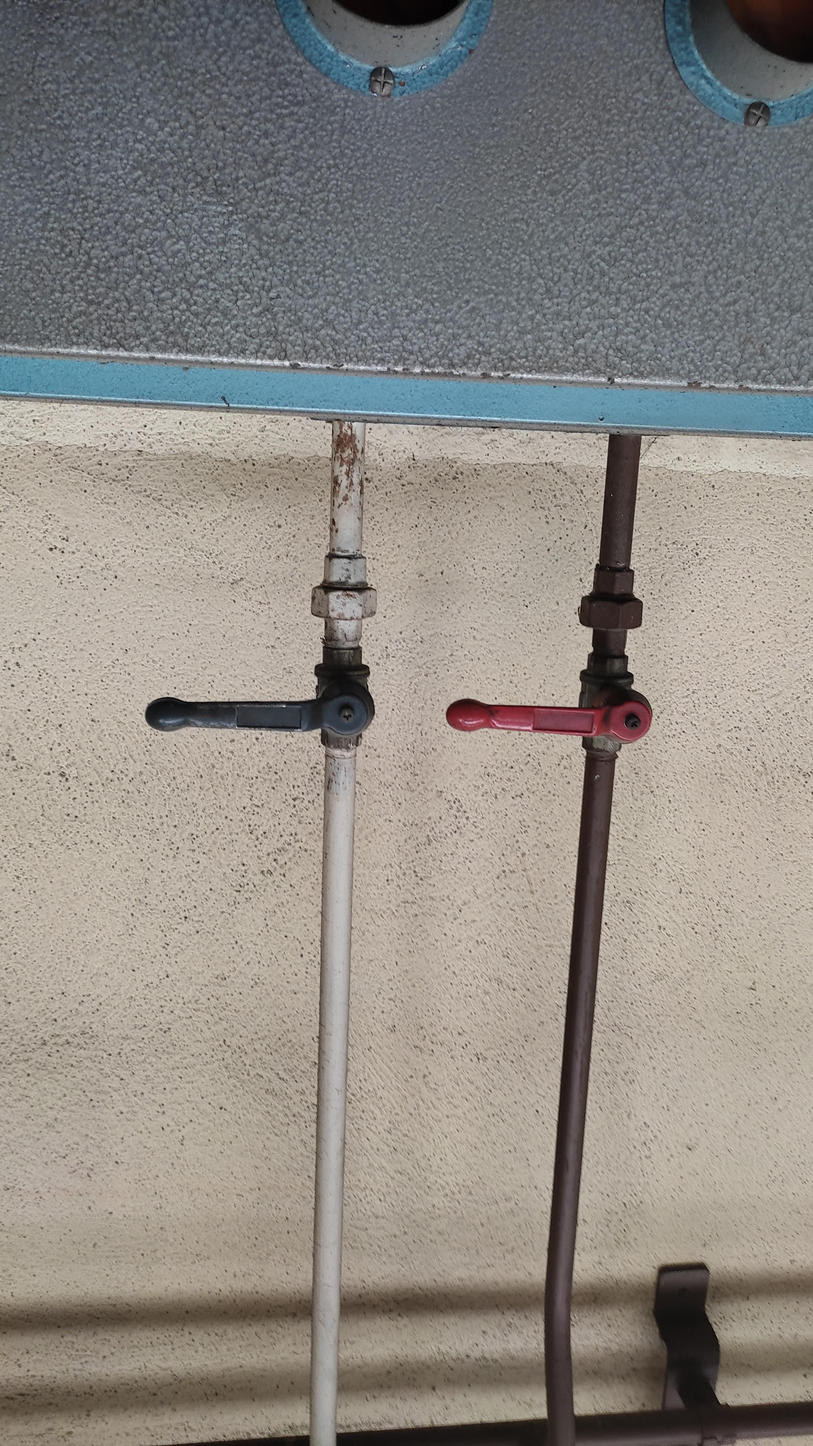closed valve: (141, 645, 377, 753), (444, 655, 655, 760)
